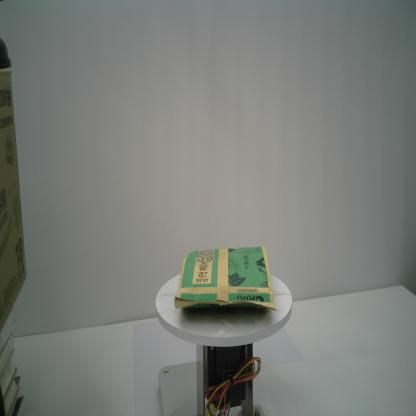Dried Food: (172, 240, 276, 318)
